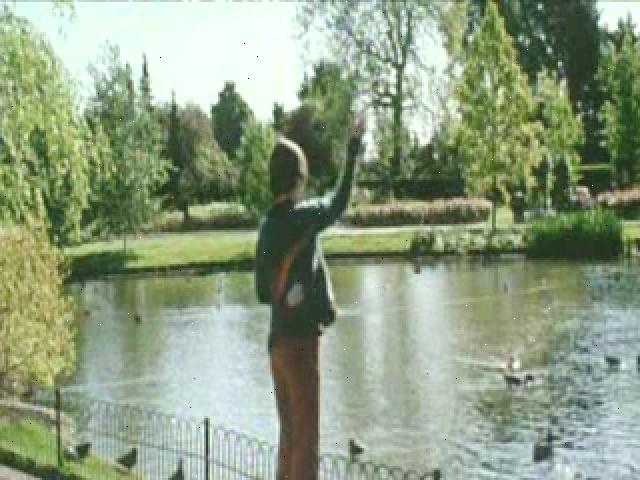T: (236, 104, 377, 480)
